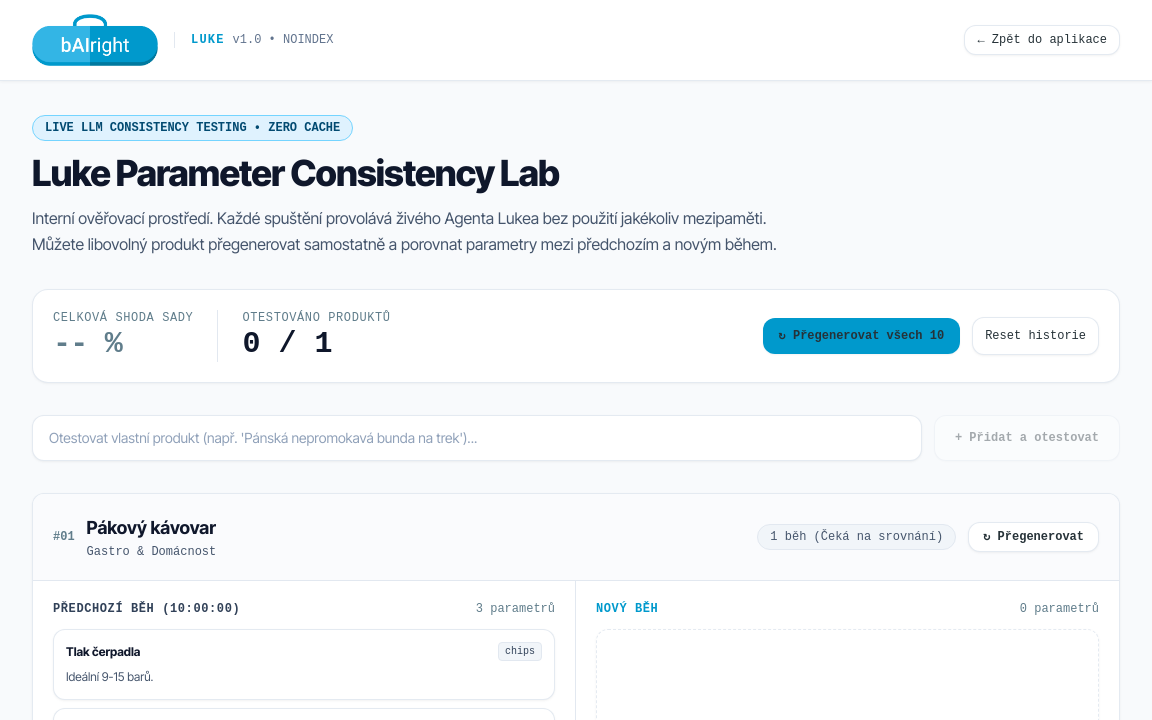
Scenario: LukeLabPage Consistency & Diff Interface Unit Tests › 3. Generates 2nd run, renders side-by-side diff, and calculates consistency percentage
Expected: the text "Tlak čerpadla" is shown, [66,644,140,660]
Step 1. Click the button "↻ Přegenerovat" → click(1034, 537), box [968,522,1099,552]
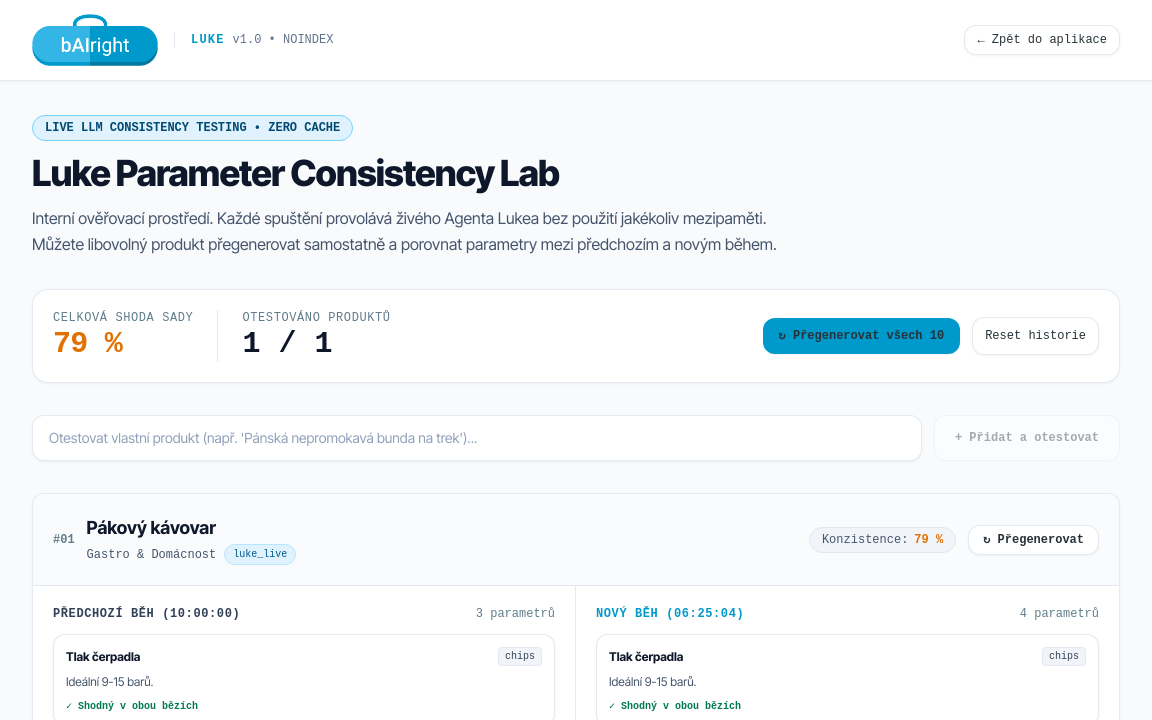
Result: the text "Konzistence:" is shown at [822,532,908,548]
